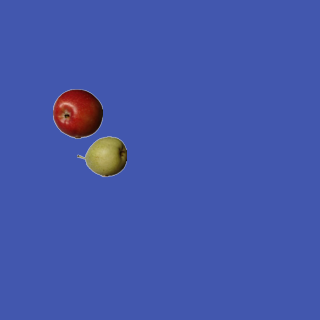Apple Braeburn: (52, 88, 102, 138)
Pear: (76, 131, 126, 181)
